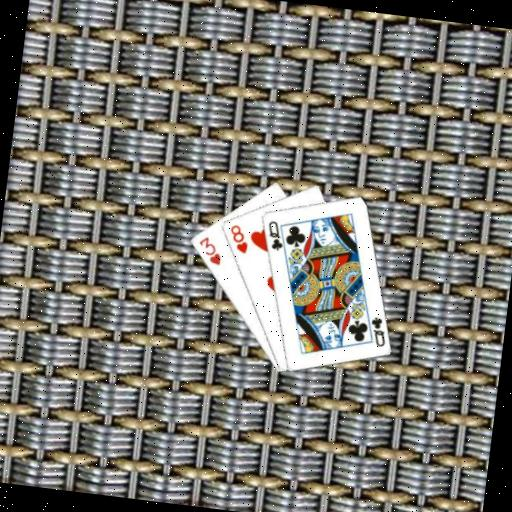3H: (194, 232, 225, 267)
8H: (224, 221, 251, 256)
QC: (262, 216, 287, 252), (365, 313, 390, 349)
